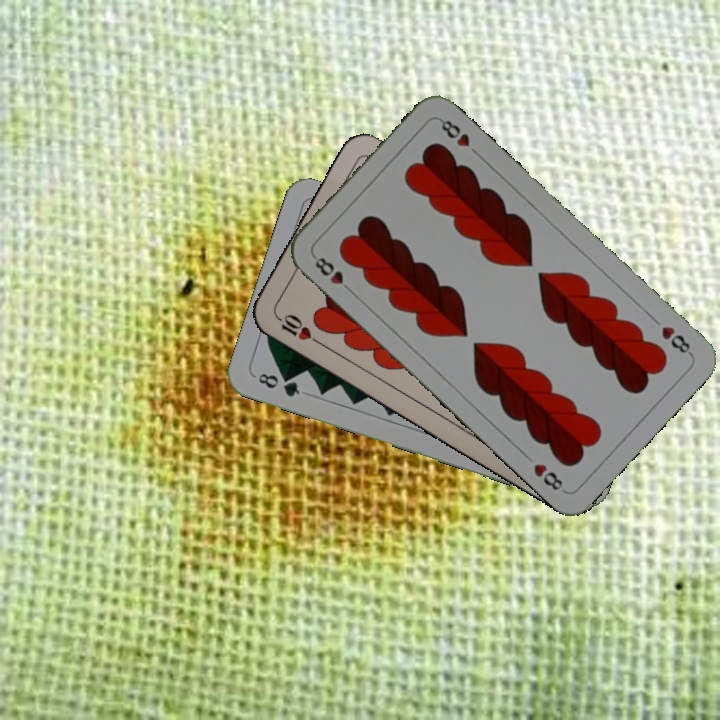G8: (254, 369, 303, 400)
H10: (271, 309, 324, 347)
H8: (309, 251, 356, 296), (657, 322, 695, 358)
